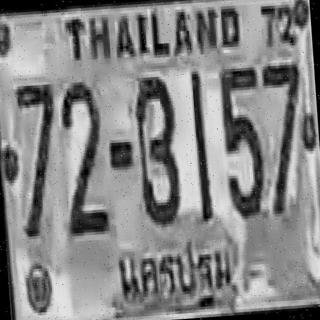N01: (188, 70, 211, 220)
N02: (58, 78, 108, 234)
N03: (131, 73, 181, 223)
N05: (217, 63, 266, 216)
N07: (13, 80, 62, 238), (260, 58, 309, 214)
P28: (111, 235, 239, 319)
